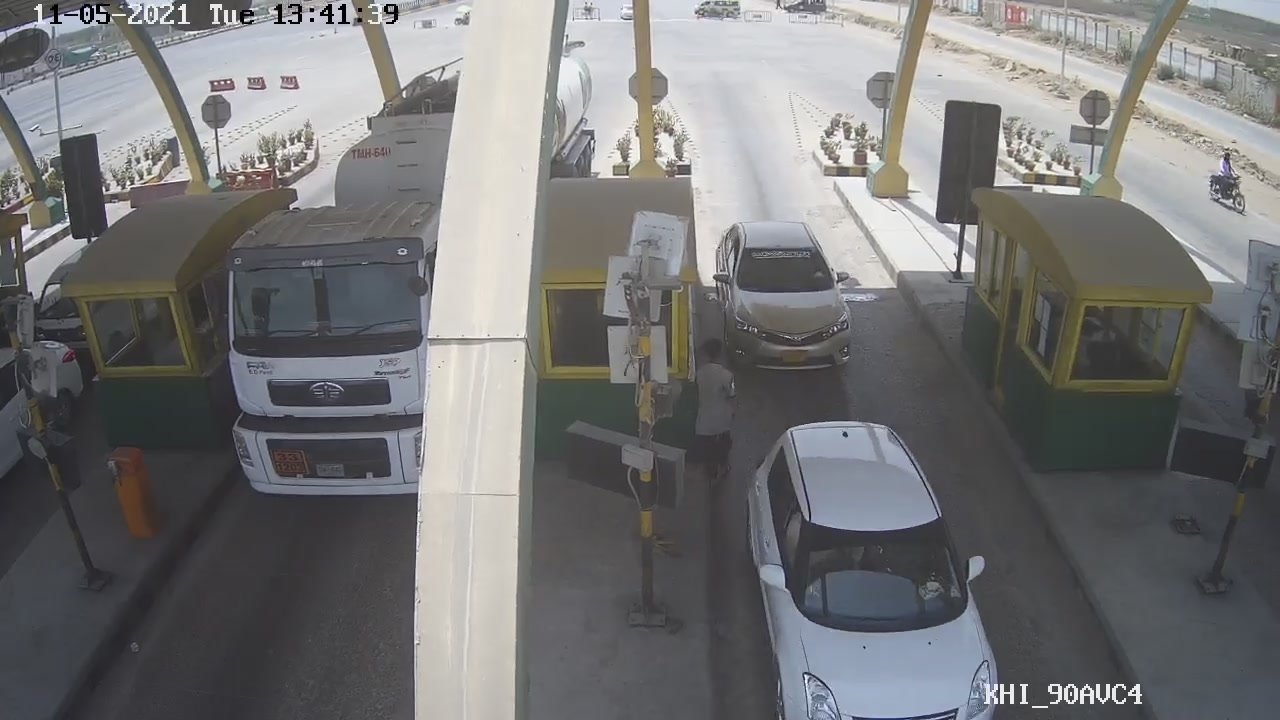F1: (715, 215, 860, 370)
